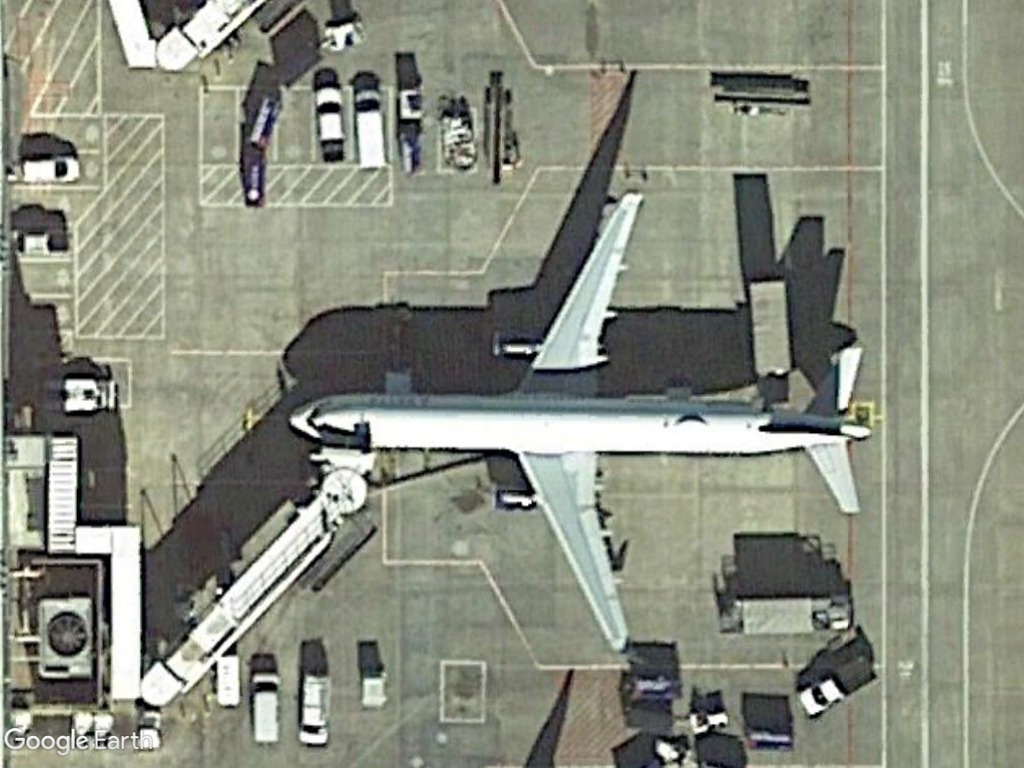airliner: (281, 181, 876, 679)
car: (16, 152, 81, 187)
truck: (743, 270, 799, 403)
van: (349, 81, 390, 177), (243, 666, 288, 750), (294, 667, 334, 751)
